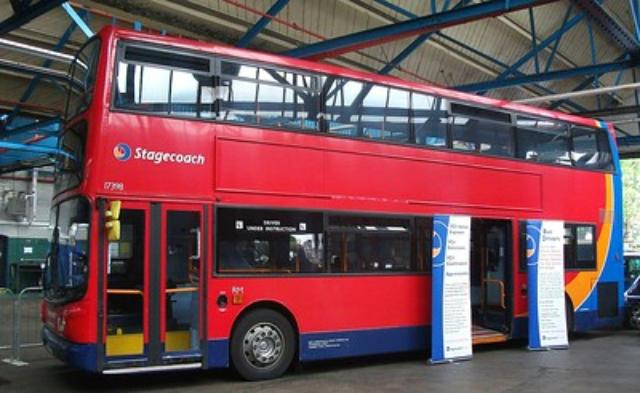bus: (40, 26, 626, 382)
